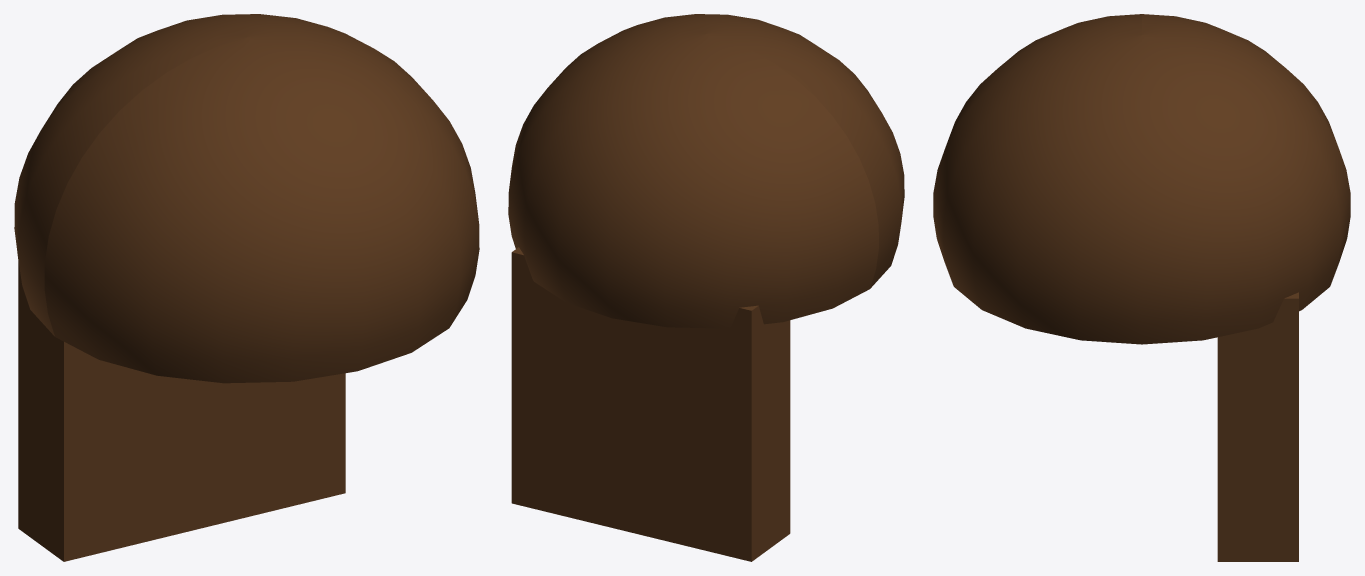
File: hair-long.glb
3 views of the same model, side by side, from view 1: azimuth 30°, elevation 25°; view 2: azimuth 150°, elevation 25°; view 3: azimuth 270°, elevation 25° (orthographic). The views are drawn at different scales.
Visible parts, largest first — view 1: hair-long; view 2: hair-long; view 3: hair-long.
Part boxes in pixels (x1=…): hair-long: x1=14, y1=14, x2=479, y2=561; hair-long: x1=508, y1=14, x2=904, y2=561; hair-long: x1=933, y1=14, x2=1350, y2=561.
Size of the model in its own units: 0.7188 by 0.884 by 0.7188.
